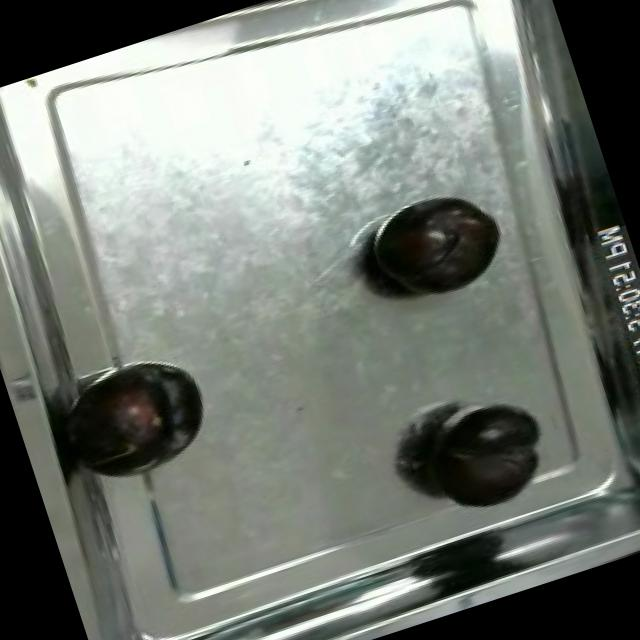Fruit: (47, 342, 224, 496), (398, 386, 566, 532), (352, 180, 520, 322)
